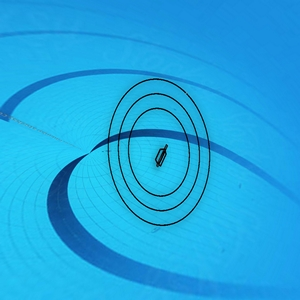circle: (104, 76, 214, 228)
submarine: (155, 145, 166, 167)
